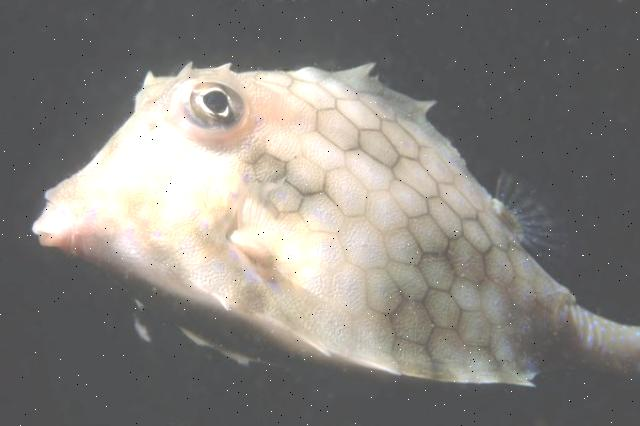Mulut: (5, 177, 110, 281)
Sirip Dada: (220, 149, 360, 307)
Sirip Punggung: (478, 141, 598, 285)
